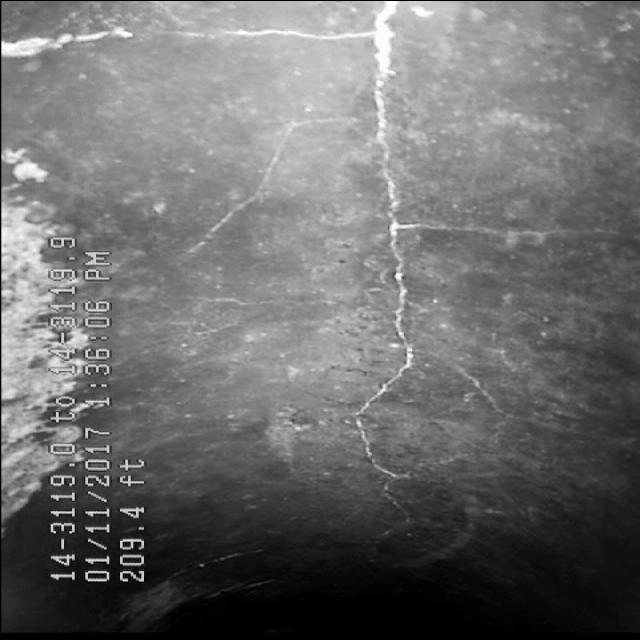Crack: (312, 32, 436, 540)
